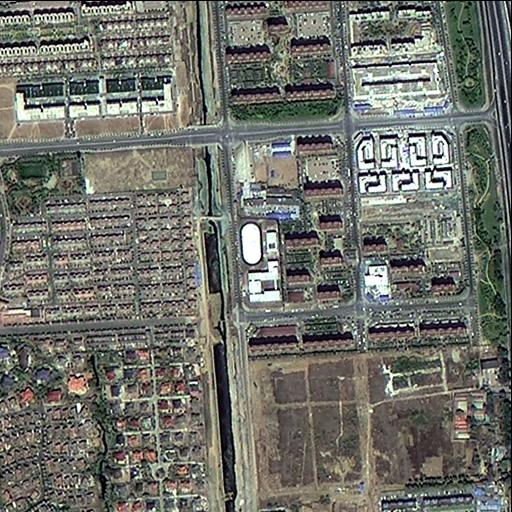school: (235, 215, 281, 311)
